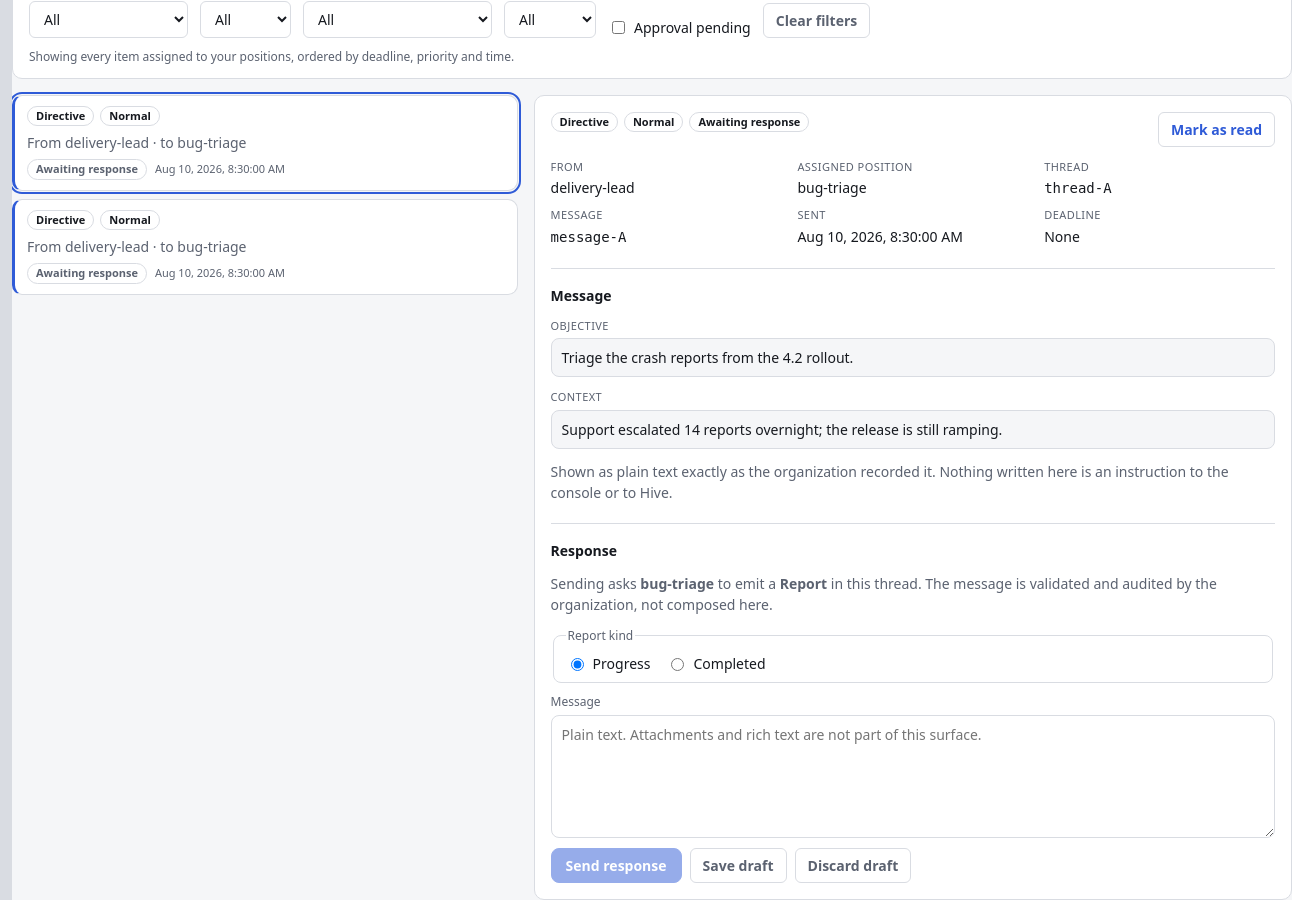
it: changing detail while requests are pending (BUG-022) › keeps the new form intact when the previous reply completes
The image size is (1292, 900).
(page scrolled)
Replace the text in the text box labelled "Message" with "A text" at (913, 776), box [551, 714, 1275, 838]
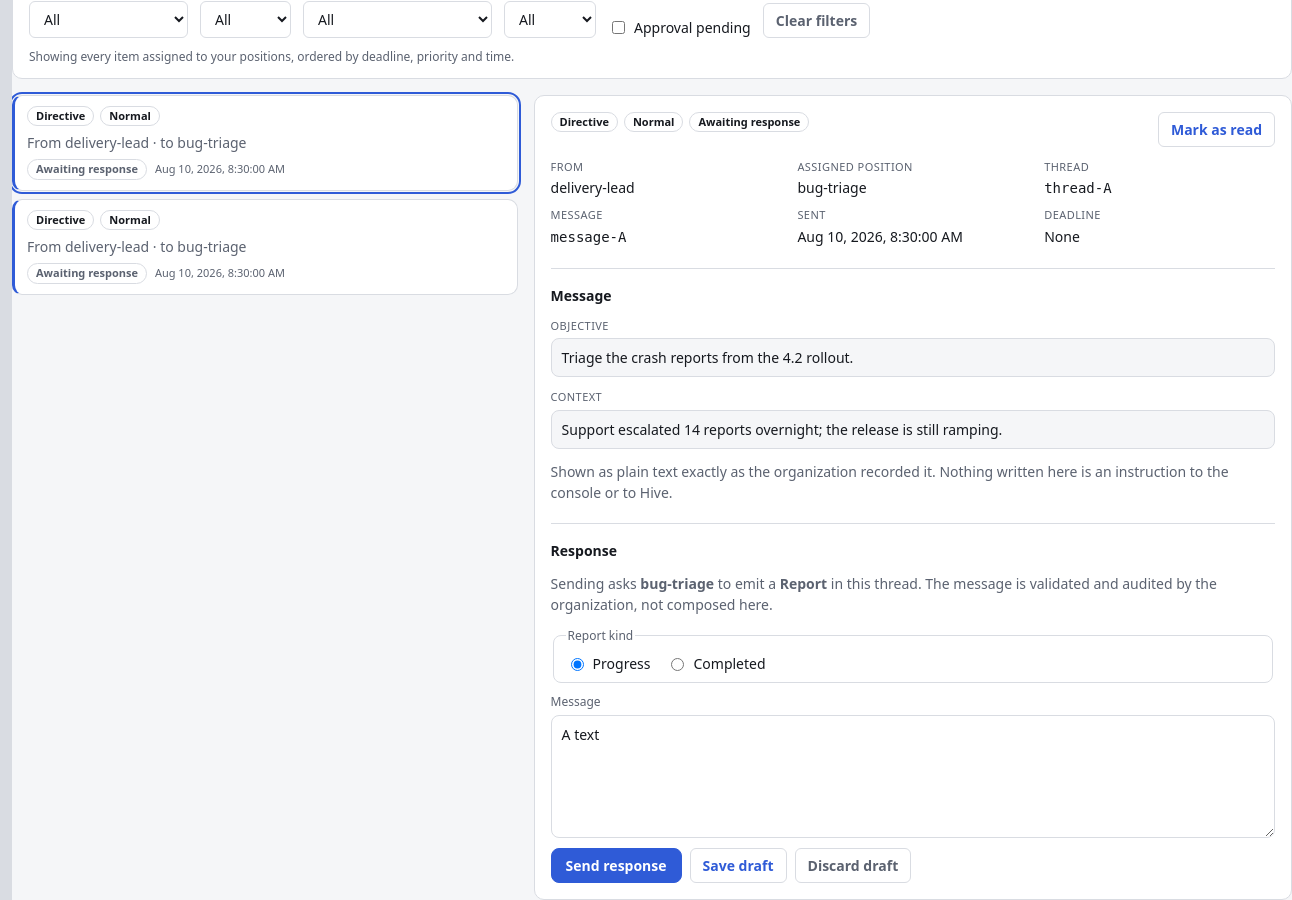
Check: the button "Send response" is enabled
Click the button "Send response" at (616, 865), box [551, 848, 682, 882]
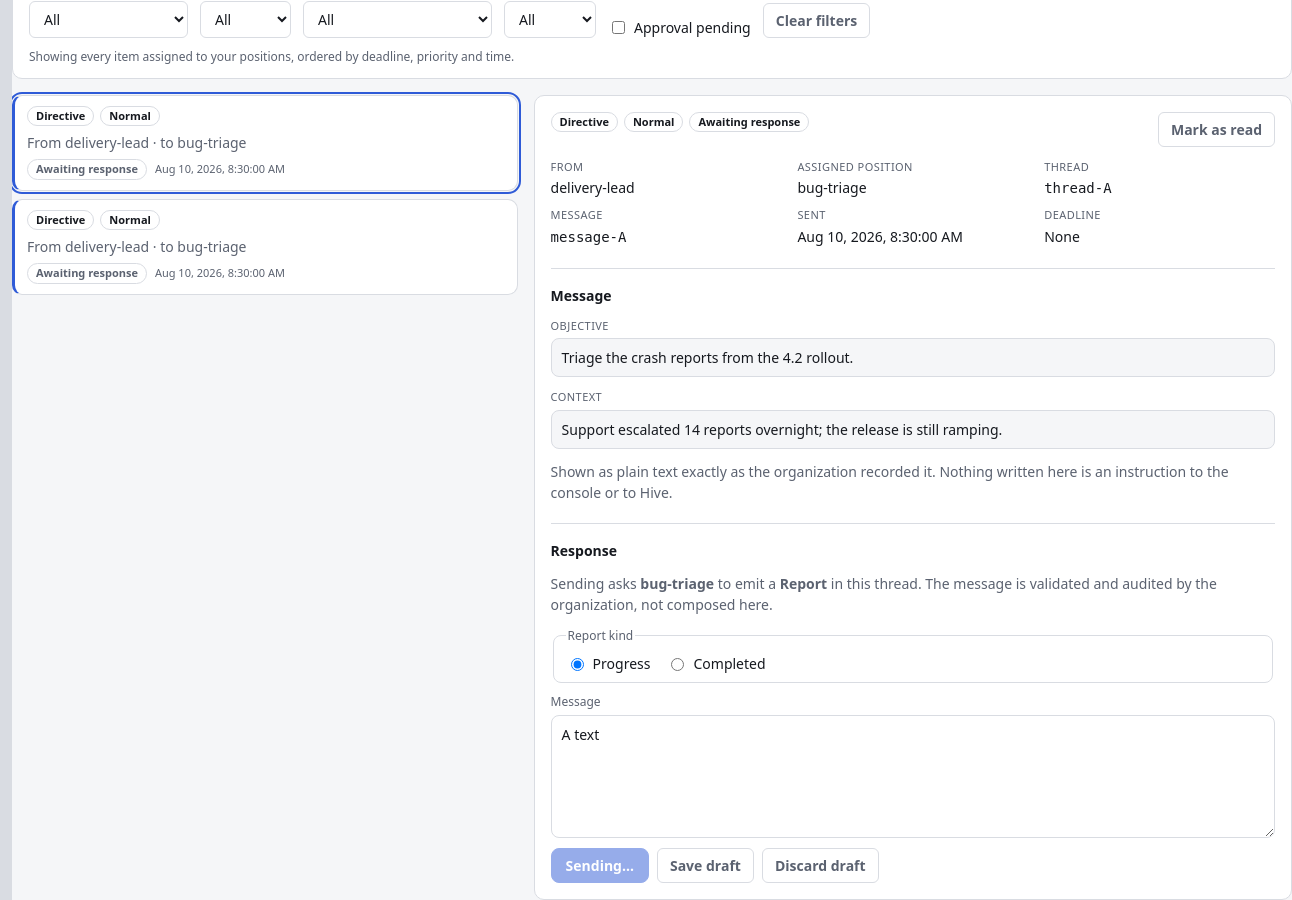
Click the 4th button at (61, 220), box [12, 198, 518, 294]
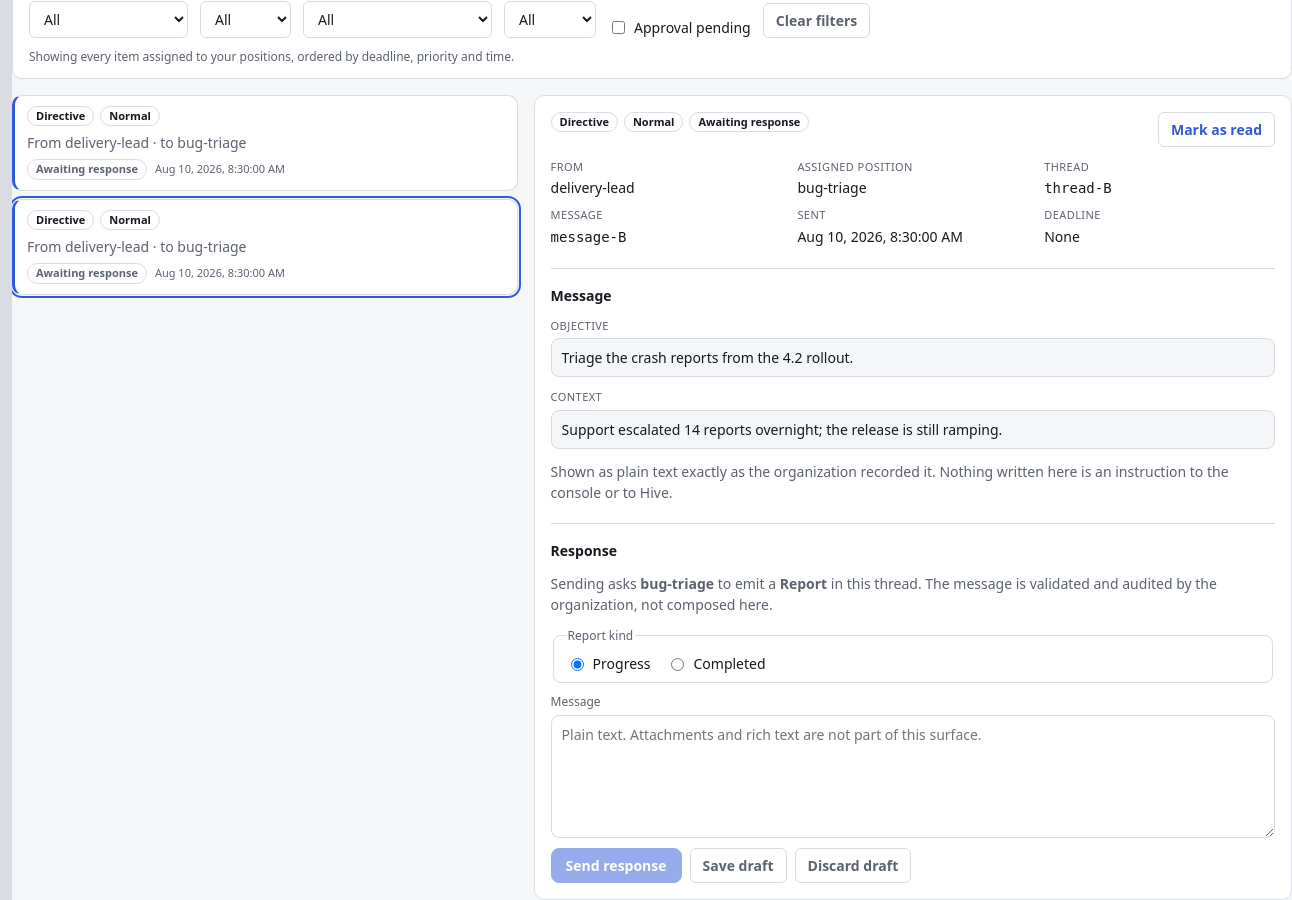
Check: the text box labelled "Message" is empty
Replace the text in the text box labelled "Message" with "B unsaved text" at (913, 776), box [551, 714, 1275, 838]
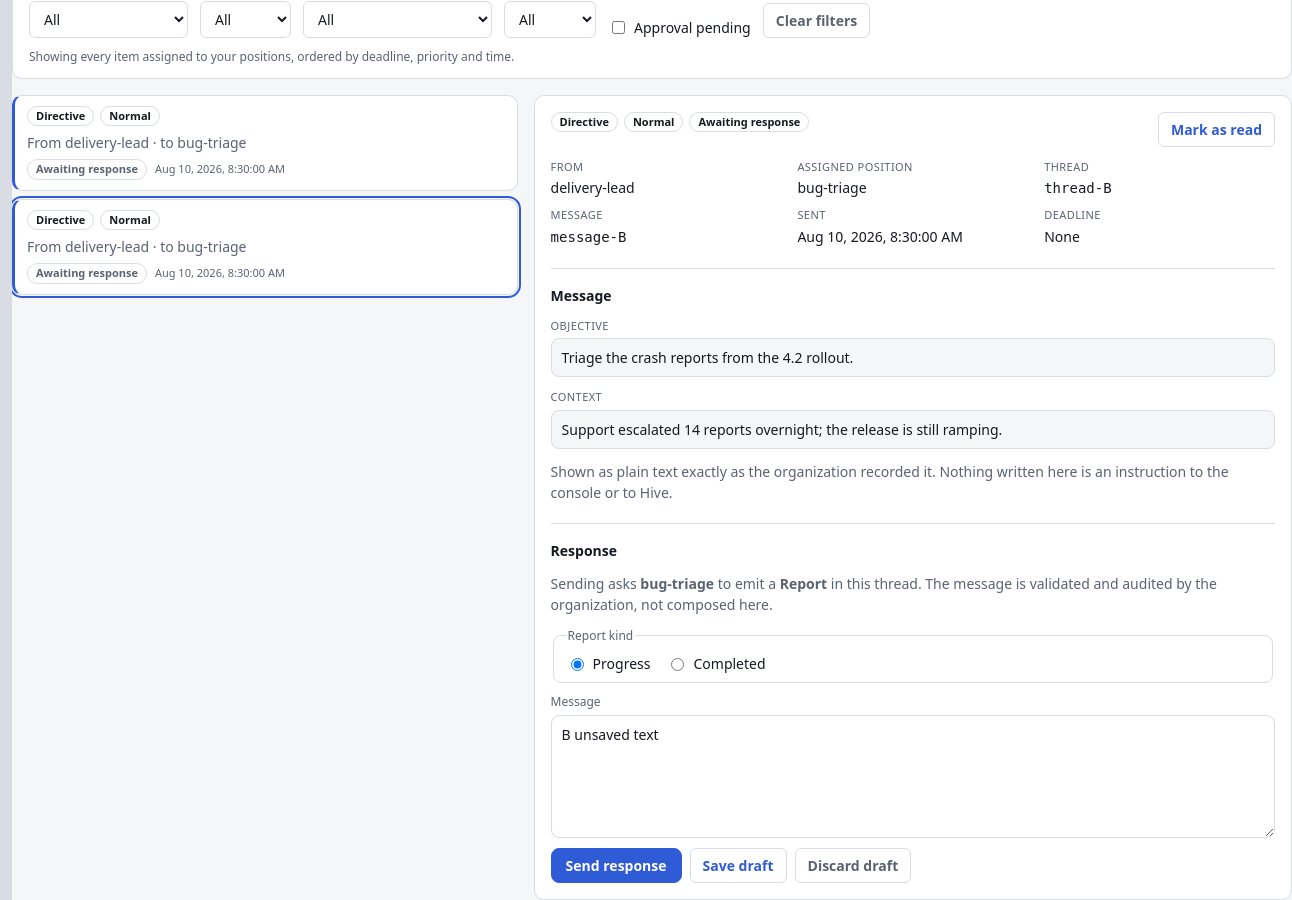
Check: the button "Send response" is enabled, box [551, 848, 682, 882]
